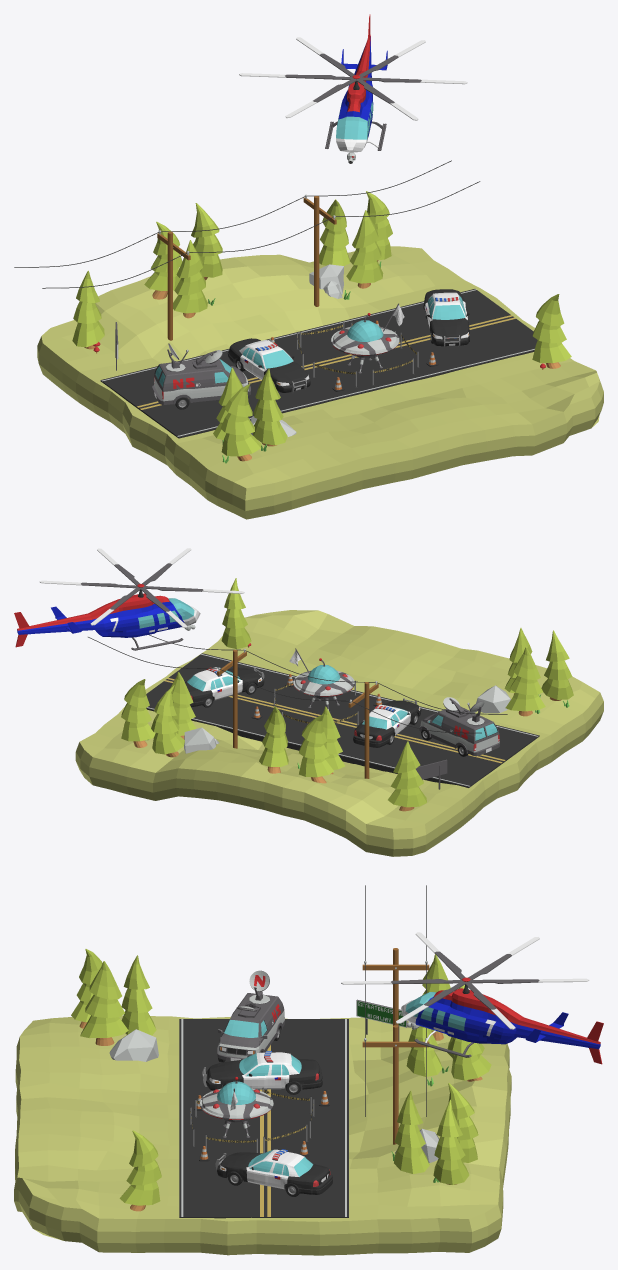
The model's file is Low Poly UFO Scene By EdwinRC.fbx.
The picture shows the model from 3 angles, top to bottom: view 1: azimuth 30°, elevation 25°; view 2: azimuth 150°, elevation 25°; view 3: azimuth 270°, elevation 25°; orthographic projection. The views are drawn at different scales.
Visible parts, largest first — view 1: Plane.001, Plane.004, Cube, Plane.002, Plane.000, Cube.006, Cube.021, Cube.004, Cylinder.007, Circle.004, Circle.011, Circle.003 (+8 smaller); view 2: Plane.001, Plane.004, Plane.002, Cube, Plane.000, Cube.006, Cube.021, Cube.004, Cylinder.007, Circle.009, Circle.002, Circle (+11 smaller); view 3: Plane.001, Plane.004, Plane.002, Cube, Cube.004, Cube.006, Cube.021, Circle.005, Plane.000, Cylinder.007, Circle.011, Circle.003 (+9 smaller).
Boxes of the visible parts, left/top/right/bottom form: Plane.001: left=37, top=246, right=603, bottom=519; Plane.004: left=100, top=289, right=537, bottom=438; Cube: left=152, top=343, right=250, bottom=404; Plane.002: left=325, top=14, right=387, bottom=163; Plane.000: left=14, top=160, right=480, bottom=340; Cube.006: left=227, top=338, right=310, bottom=393; Cube.021: left=239, top=37, right=467, bottom=120; Cube.004: left=423, top=289, right=469, bottom=347; Cylinder.007: left=331, top=313, right=399, bottom=373; Circle.004: left=220, top=384, right=261, bottom=461; Circle.011: left=532, top=294, right=571, bottom=368; Circle.003: left=346, top=210, right=383, bottom=288; Plane.001: left=75, top=610, right=603, bottom=856; Plane.004: left=146, top=653, right=539, bottom=787; Plane.002: left=14, top=584, right=200, bottom=650; Cube: left=419, top=697, right=499, bottom=756; Plane.000: left=88, top=634, right=507, bottom=778; Cube.006: left=353, top=698, right=421, bottom=747; Cube.021: left=39, top=548, right=244, bottom=627; Cube.004: left=185, top=667, right=264, bottom=706; Cylinder.007: left=293, top=658, right=354, bottom=712; Circle.009: left=388, top=741, right=426, bottom=811; Circle.002: left=505, top=647, right=545, bottom=716; Circle: left=121, top=679, right=155, bottom=747; Plane.001: left=14, top=1015, right=511, bottom=1255; Plane.004: left=179, top=1019, right=348, bottom=1218; Plane.002: left=401, top=977, right=603, bottom=1064; Cube: left=217, top=970, right=284, bottom=1060; Cube.004: left=215, top=1149, right=332, bottom=1194; Cube.006: left=202, top=1051, right=322, bottom=1090; Cube.021: left=341, top=932, right=589, bottom=1029; Circle.005: left=80, top=961, right=128, bottom=1045; Plane.000: left=362, top=885, right=429, bottom=1144; Cylinder.007: left=199, top=1077, right=273, bottom=1137; Circle.011: left=119, top=1130, right=161, bottom=1211; Circle.003: left=394, top=1090, right=429, bottom=1173.
Size of the model in its own units: 3163 by 1499 by 3310.
